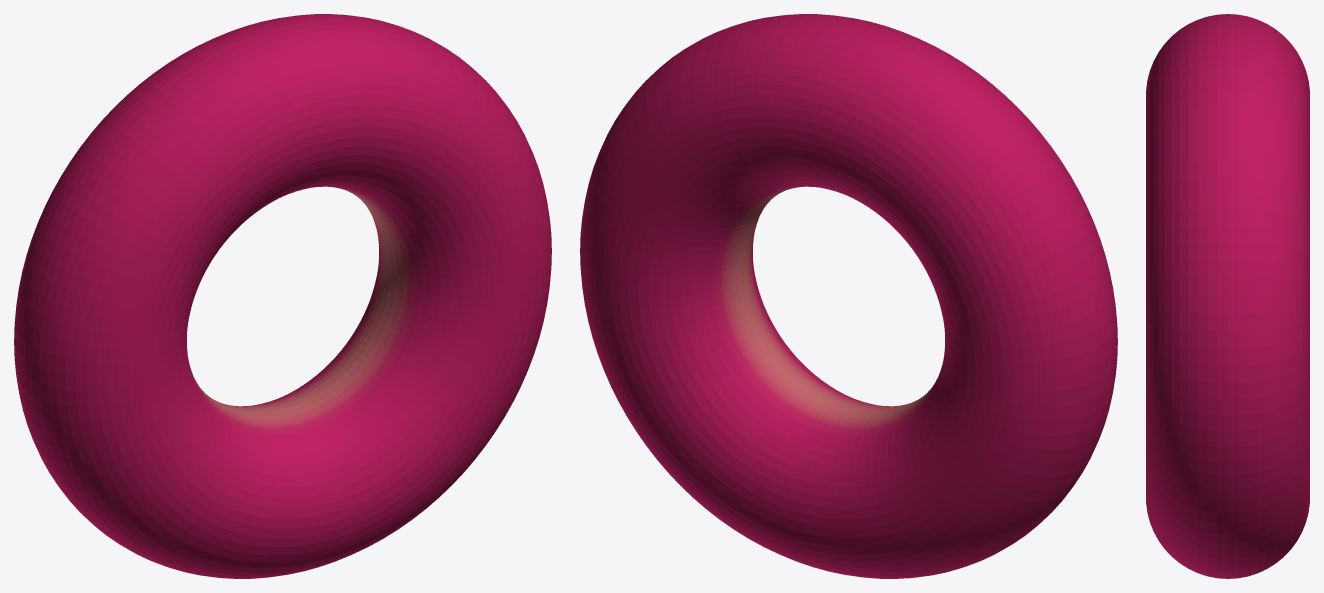
3 views of the same model, side by side, from view 1: azimuth 30°, elevation 25°; view 2: azimuth 150°, elevation 25°; view 3: azimuth 270°, elevation 25° (orthographic). The views are drawn at different scales.
Parts seen in each view (by area): view 1: world; view 2: world; view 3: world.
Part boxes in pixels (bbox=[...]): world: bbox=[14, 14, 551, 578]; world: bbox=[580, 14, 1117, 578]; world: bbox=[1146, 14, 1309, 578].
Bounding box in the file's own units: 18.8 × 18.8 × 5.46.
